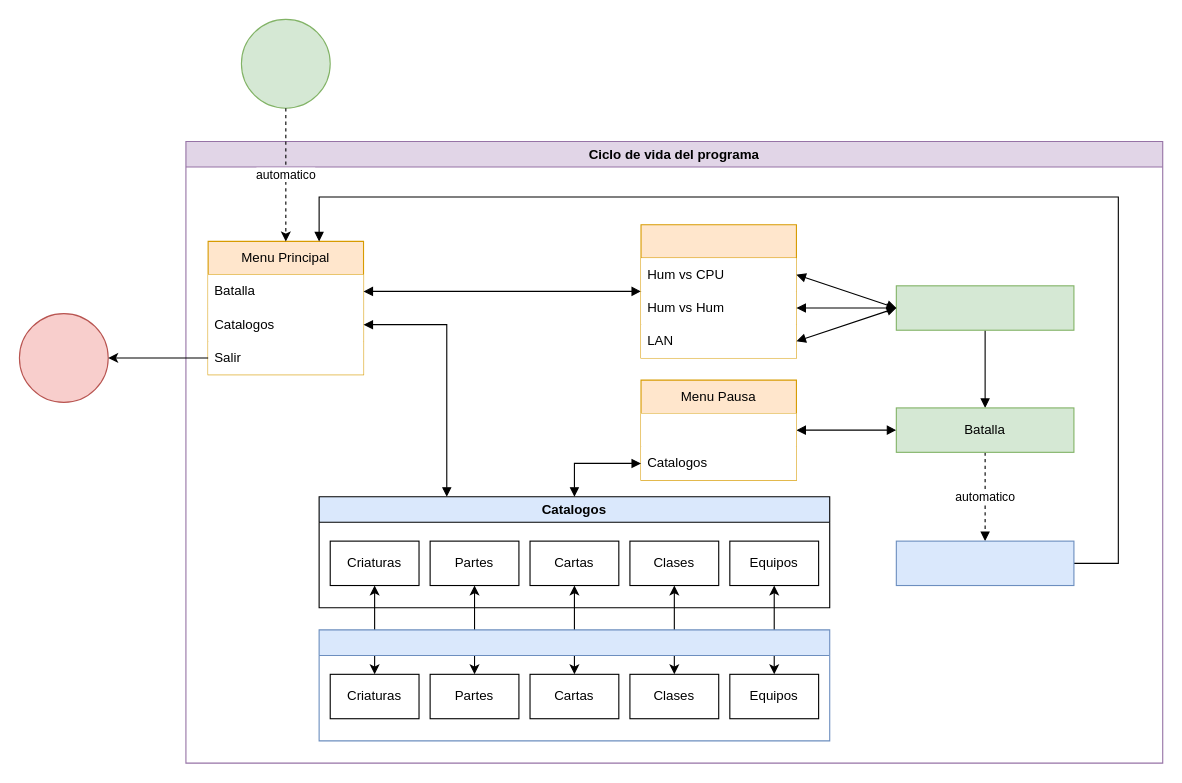
Some shapes in this 1182 by 783 pixel diagram are drawn without their labels. Each missing label, with the box of its shape:
Creadores/Editores: (318, 629, 830, 741)
Inicio del programa: (240, 18, 330, 108)
Reanudar: (640, 413, 796, 446)
Salida del programa: (18, 312, 108, 402)
Seleccion de Equipos: (895, 285, 1074, 330)
Seleccion de Tipo de Batalla: (640, 224, 796, 358)
Sumario de Batalla: (895, 540, 1074, 586)
